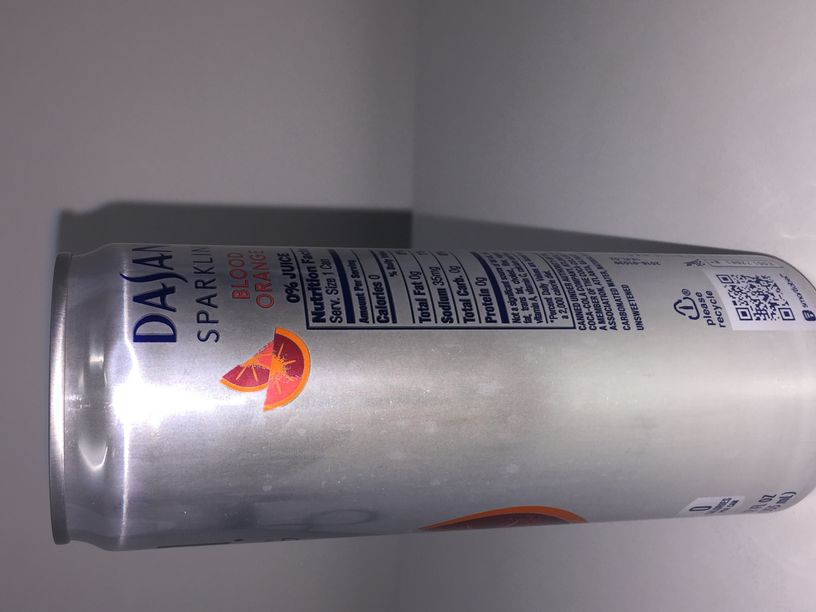blood_orange: (48, 240, 816, 554)
